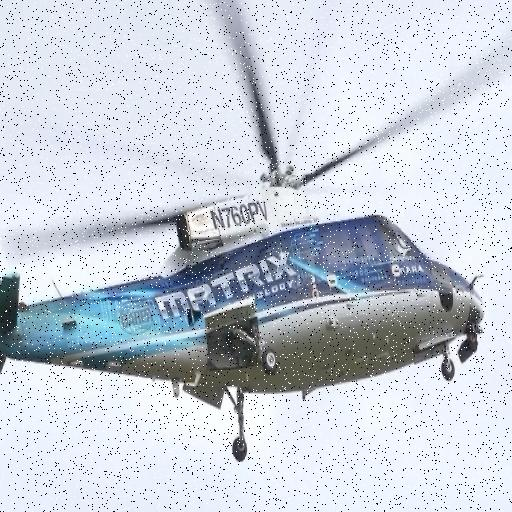helicopter: (1, 1, 489, 471)
